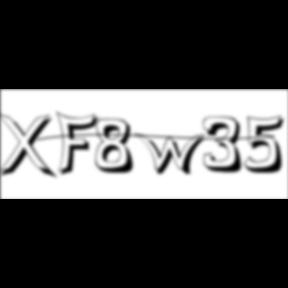3: (204, 116, 250, 176)
5: (244, 114, 288, 176)
8: (96, 117, 140, 176)
F: (56, 110, 104, 178)
X: (1, 112, 60, 182)
w: (134, 132, 212, 178)
